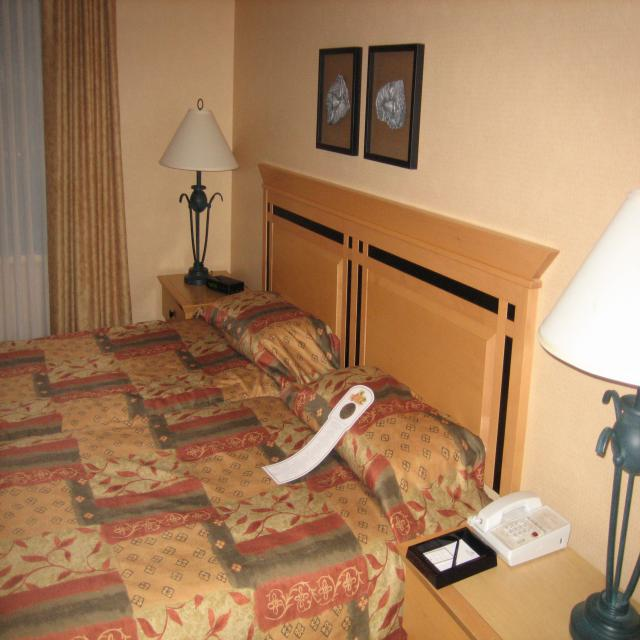bed -occluded-: (1, 284, 491, 640)
lamp crop: (156, 107, 242, 284)
painting crop: (364, 43, 425, 170), (316, 46, 362, 156)
